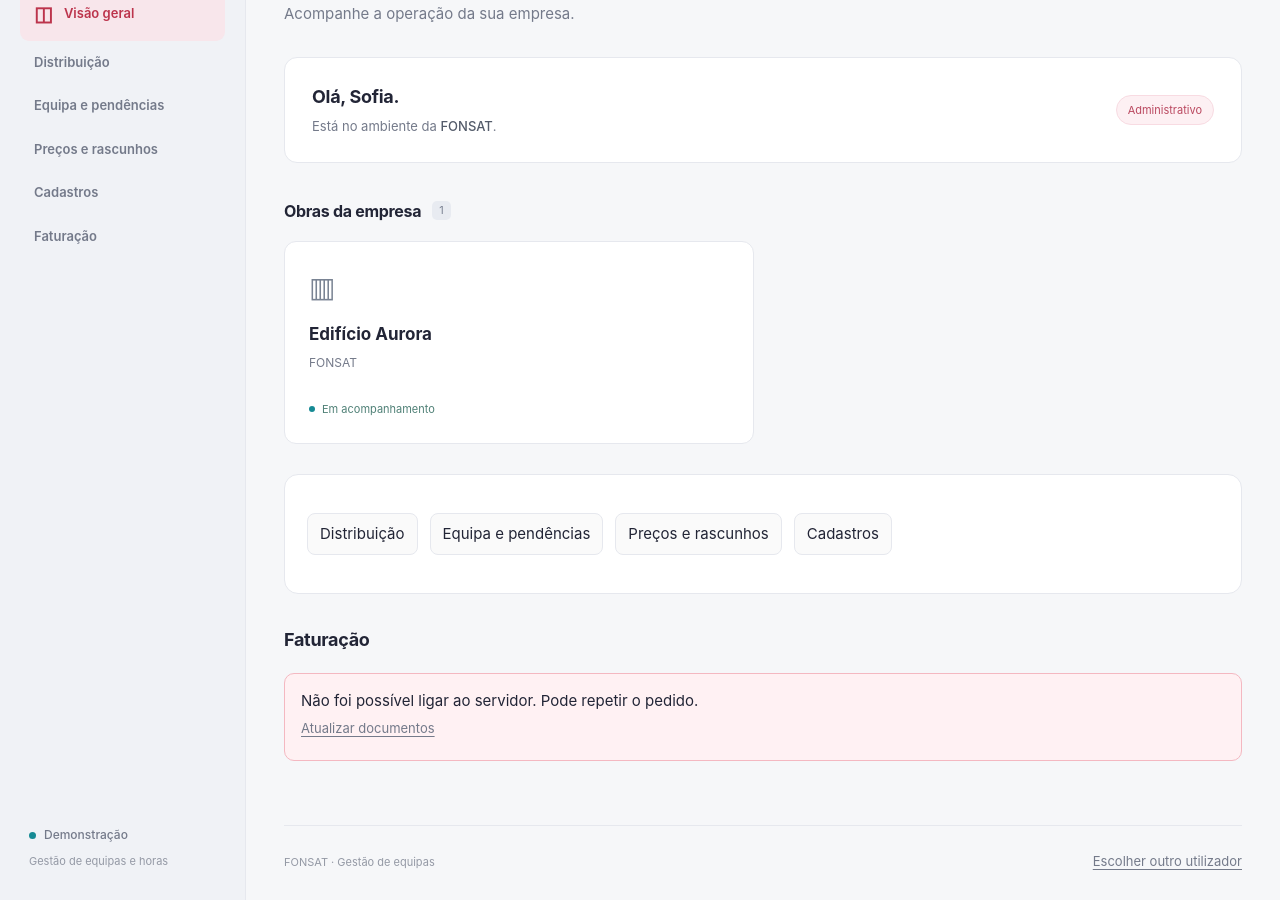
Test case: limpa a seleção e os dados visíveis ao escolher outro utilizador
(page scrolled)
Click the button "Escolher outro utilizador".
click(1167, 862)  # box [1093,846,1242,878]
(page scrolled)
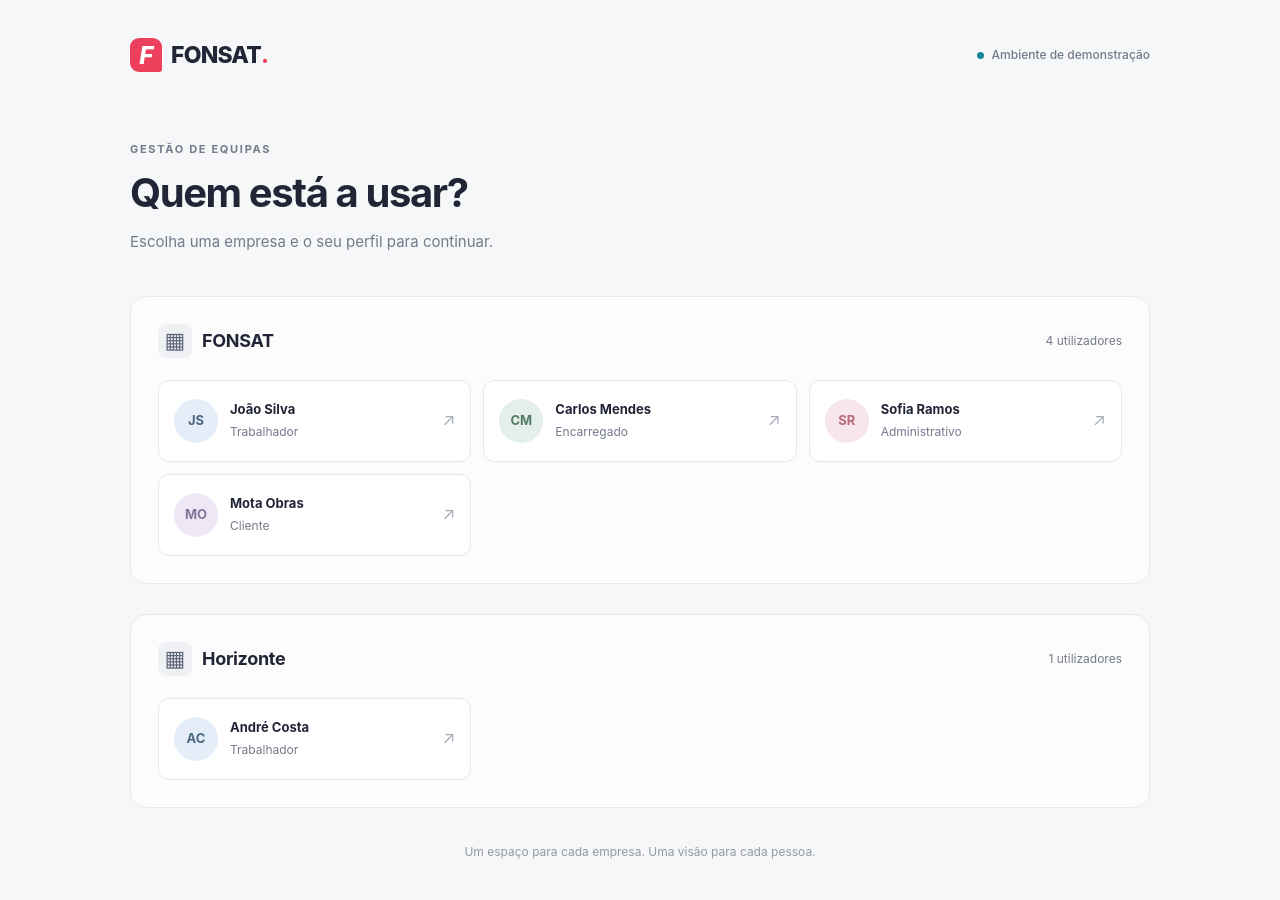
Check: the heading "Quem está a usar?" is shown, box [130,168,468,217]
Check: the heading "Edifício Aurora" is gone
